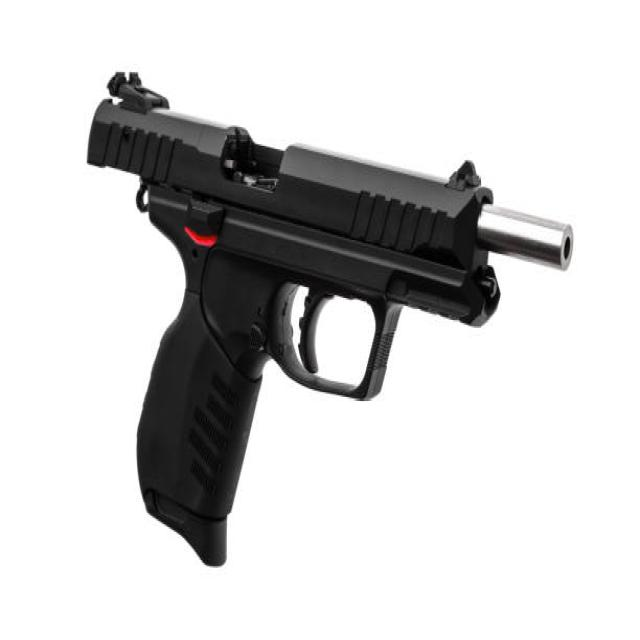pistol: (82, 61, 582, 575)
